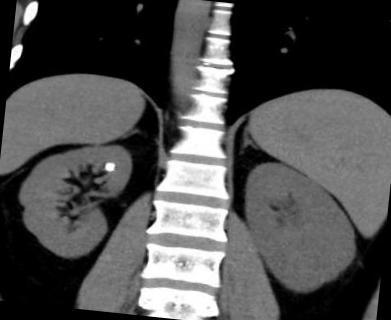Tas_Var: (101, 158, 117, 176)
